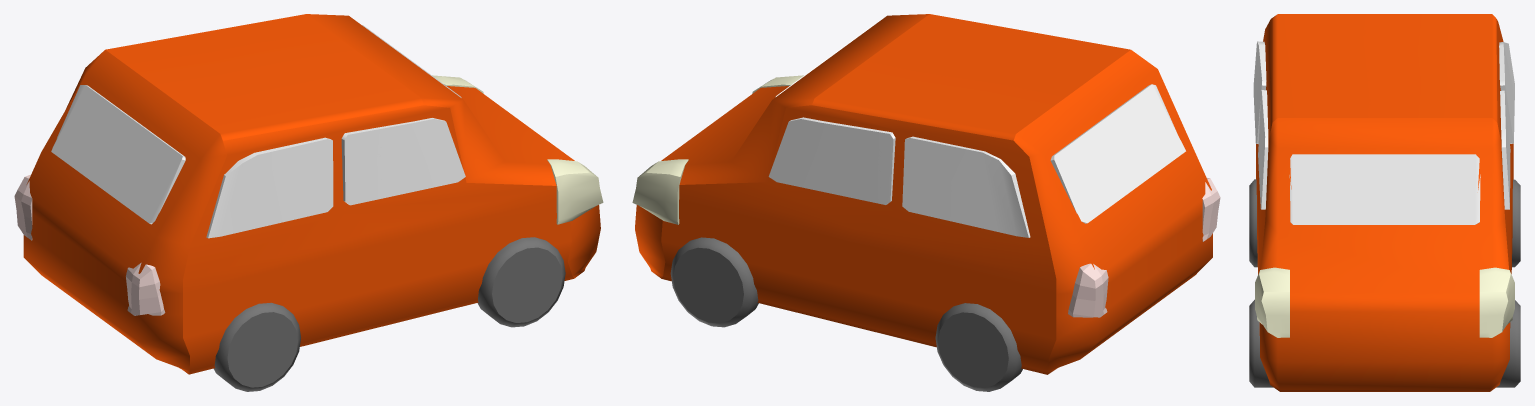
Rendered from CarroRojo.fbx.
The picture shows the model from 3 angles, left to right: view 1: azimuth 30°, elevation 25°; view 2: azimuth 150°, elevation 25°; view 3: azimuth 270°, elevation 25°; orthographic projection. The views are drawn at different scales.
Parts seen in each view (by area): view 1: pCube1, pCube10, pCube7, pCube8, pCylinder1, pCylinder2, pCube9, pCube11; view 2: pCube1, pCube10, pCube4, pCube3, pCylinder3, pCylinder4, pCube9, pCube11; view 3: pCube1, pCube6, pCube9, pCube4, pCylinder1, pCylinder3, pCube8, pCube3, pCube7, pCylinder4, pCylinder2.
Boxes of the visible parts, x1,y1,x2,y2 form: pCube1: (23, 14, 600, 374); pCube10: (51, 85, 185, 224); pCube7: (206, 137, 333, 238); pCube8: (341, 118, 465, 205); pCylinder1: (477, 237, 565, 327); pCylinder2: (213, 302, 300, 391); pCube9: (432, 75, 603, 224); pCube11: (14, 175, 165, 315); pCube1: (635, 14, 1212, 374); pCube10: (1050, 84, 1185, 223); pCube4: (902, 136, 1030, 237); pCube3: (768, 117, 895, 204); pCylinder3: (670, 237, 758, 327); pCylinder4: (935, 303, 1022, 391); pCube9: (632, 75, 803, 224); pCube11: (1068, 178, 1220, 317); pCube1: (1256, 14, 1513, 391); pCube6: (1289, 154, 1480, 224); pCube9: (1255, 267, 1514, 337); pCube4: (1499, 42, 1514, 143); pCylinder1: (1249, 299, 1273, 387); pCylinder3: (1496, 300, 1520, 387); pCube8: (1258, 90, 1268, 209); pCube3: (1500, 90, 1510, 209); pCube7: (1253, 41, 1266, 143); pCylinder4: (1512, 179, 1520, 267); pCylinder2: (1249, 179, 1257, 267).
Size of the model in its own units: 20.49 by 10.7 by 11.09.
